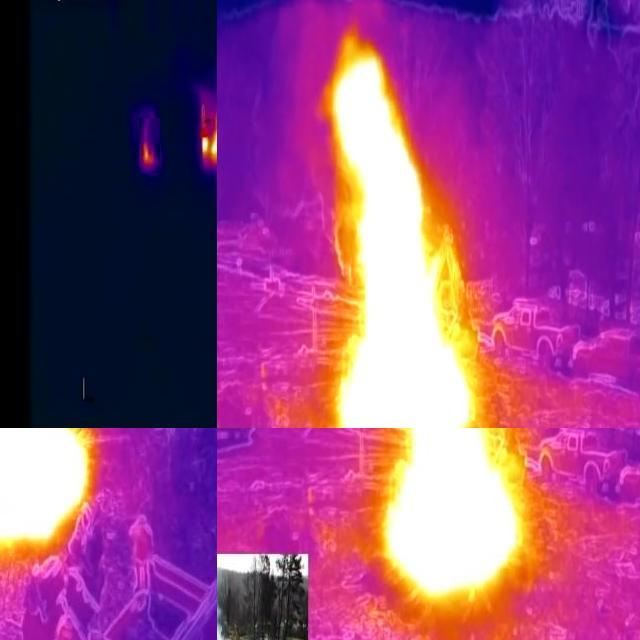fire: (326, 48, 474, 429), (373, 429, 521, 599), (1, 429, 96, 565), (201, 90, 218, 172), (140, 119, 161, 174)
